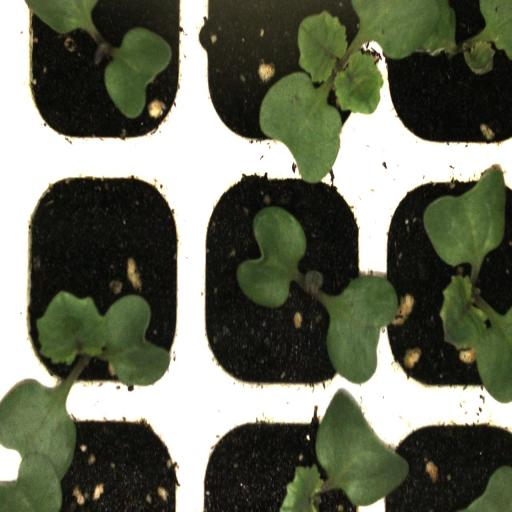seedling: (191, 158, 378, 406), (8, 154, 194, 403), (376, 159, 512, 405), (192, 0, 373, 162), (10, 0, 192, 158), (374, 2, 512, 158)
